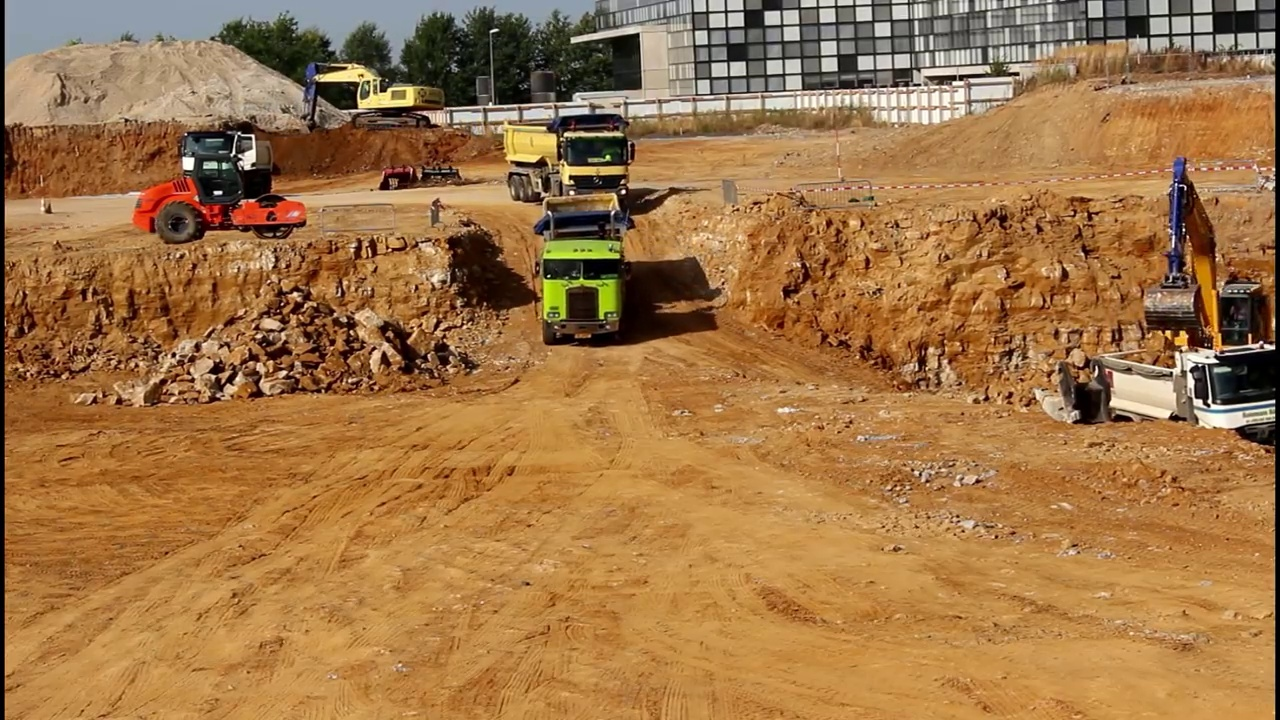compactor: (131, 155, 309, 247)
excavator: (1130, 150, 1280, 397), (298, 55, 450, 134)
truck: (1091, 340, 1280, 464), (533, 192, 633, 354), (496, 109, 640, 205), (182, 120, 285, 207)
